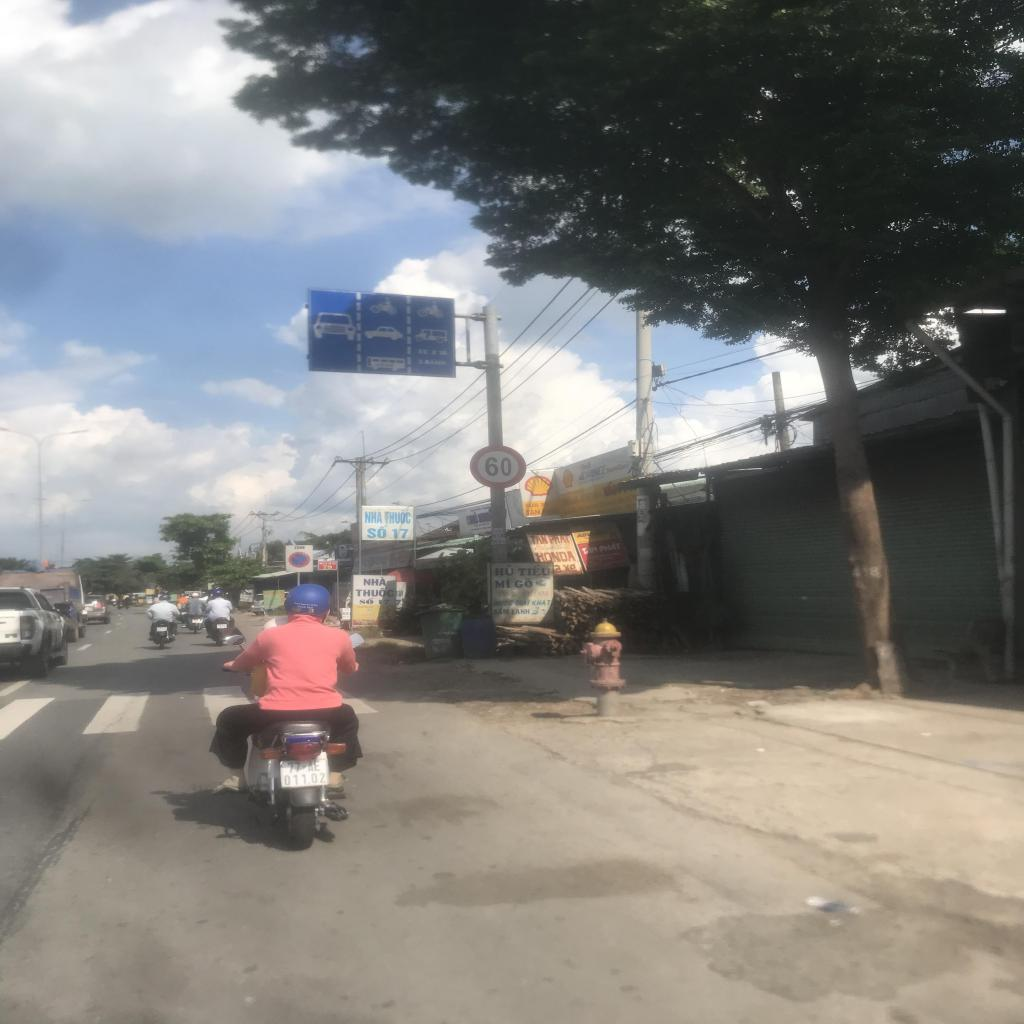cam_do_xe: (288, 550, 311, 568)
lan_duong_cho_tung_xe_theo_vach_ke_duong: (308, 288, 456, 377)
toc_do_toi_da_60: (467, 443, 528, 490)
